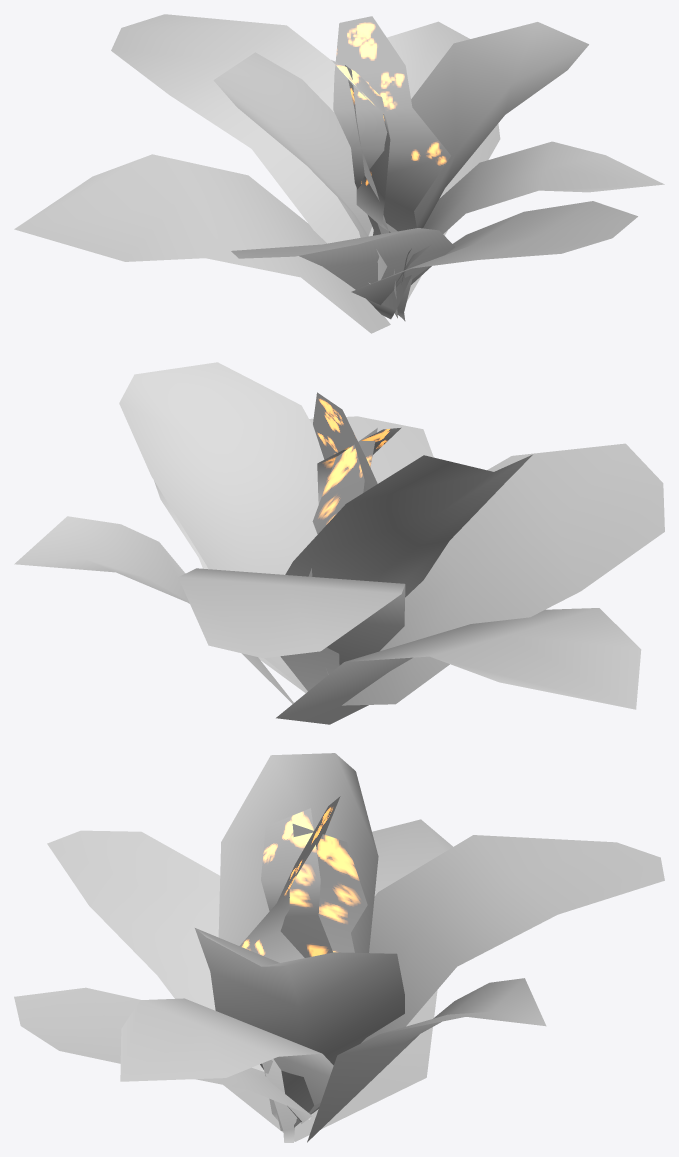
File: LeafsBigBush03.fbx
The picture shows the model from 3 angles, top to bottom: view 1: azimuth 30°, elevation 25°; view 2: azimuth 150°, elevation 25°; view 3: azimuth 270°, elevation 25°; orthographic projection. The views are drawn at different scales.
Visible parts, largest first — view 1: LeafsBigBush03; view 2: LeafsBigBush03; view 3: LeafsBigBush03.
Part boxes in pixels (x1,y1,x2,y2): LeafsBigBush03: (14, 14, 664, 333); LeafsBigBush03: (14, 362, 664, 724); LeafsBigBush03: (14, 753, 664, 1142).
Bounding box in the file's own units: 5.03 × 2.78 × 4.91.
